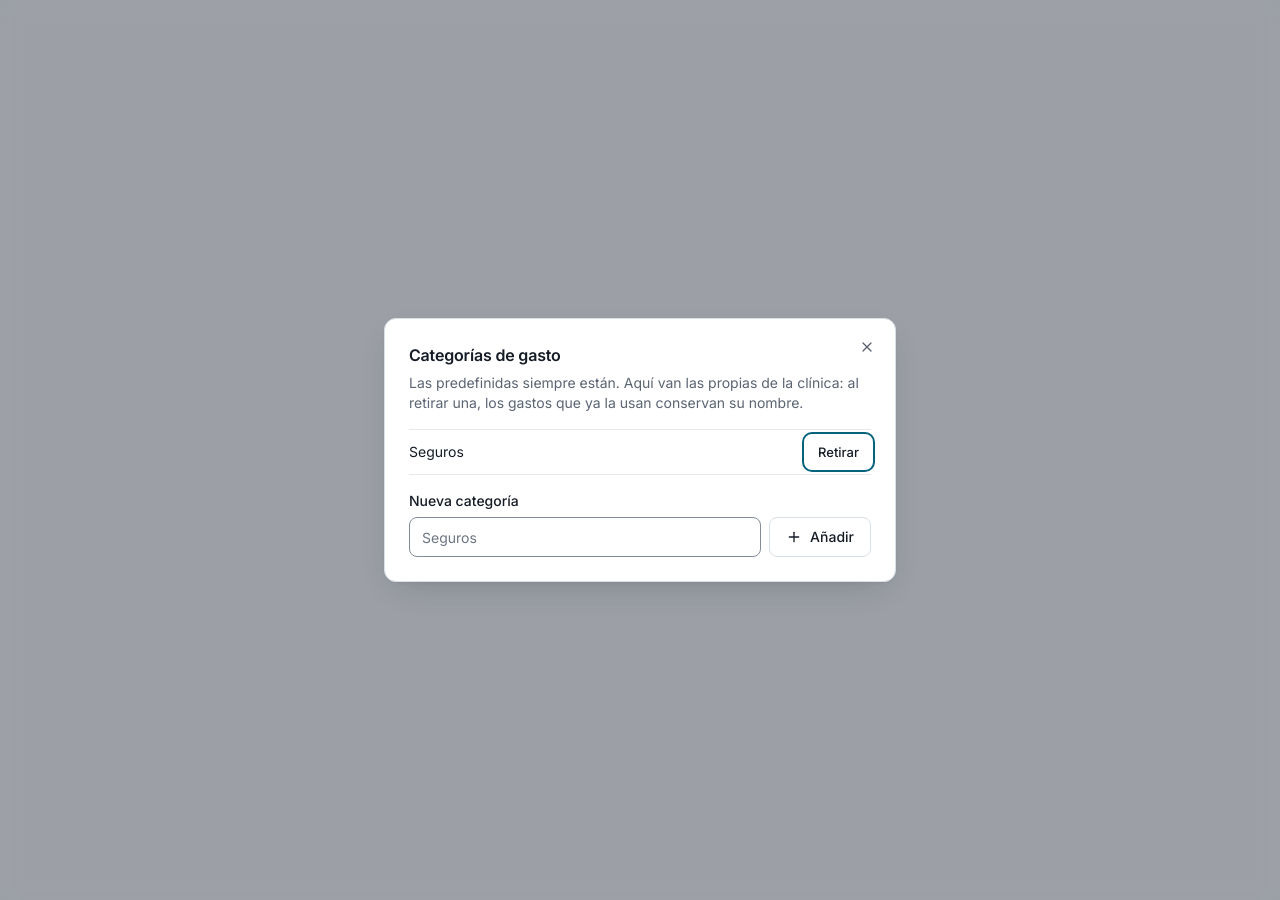
Scenario: ExpenseCategoriesModal (DX-274) › valida la longitud y dice el rechazo de la API dentro del modal
In the field labelled "Nueva categoría": (585, 537) [409,517,761,557], type "x"
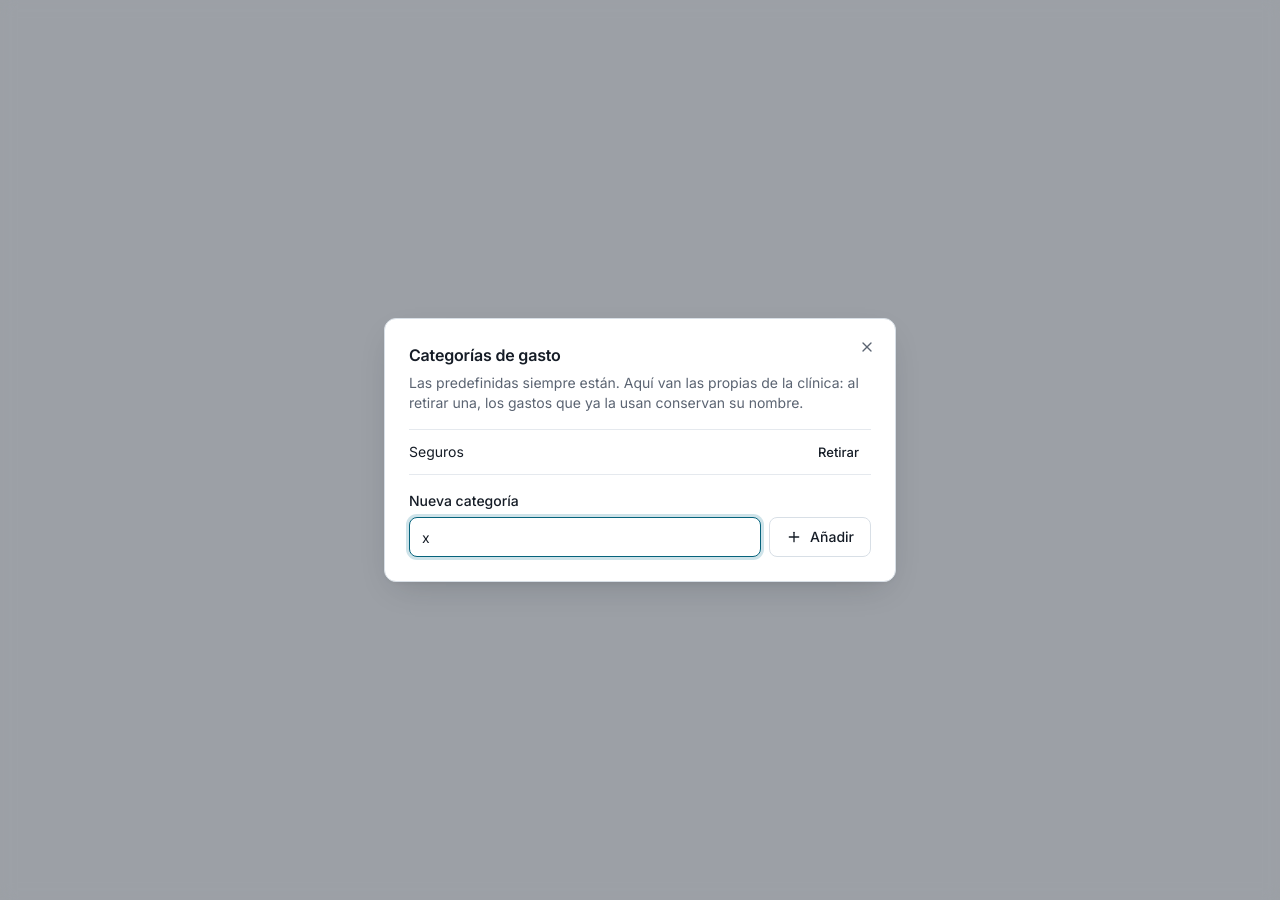
Click the button "Añadir": (820, 537) [769,517,871,557]
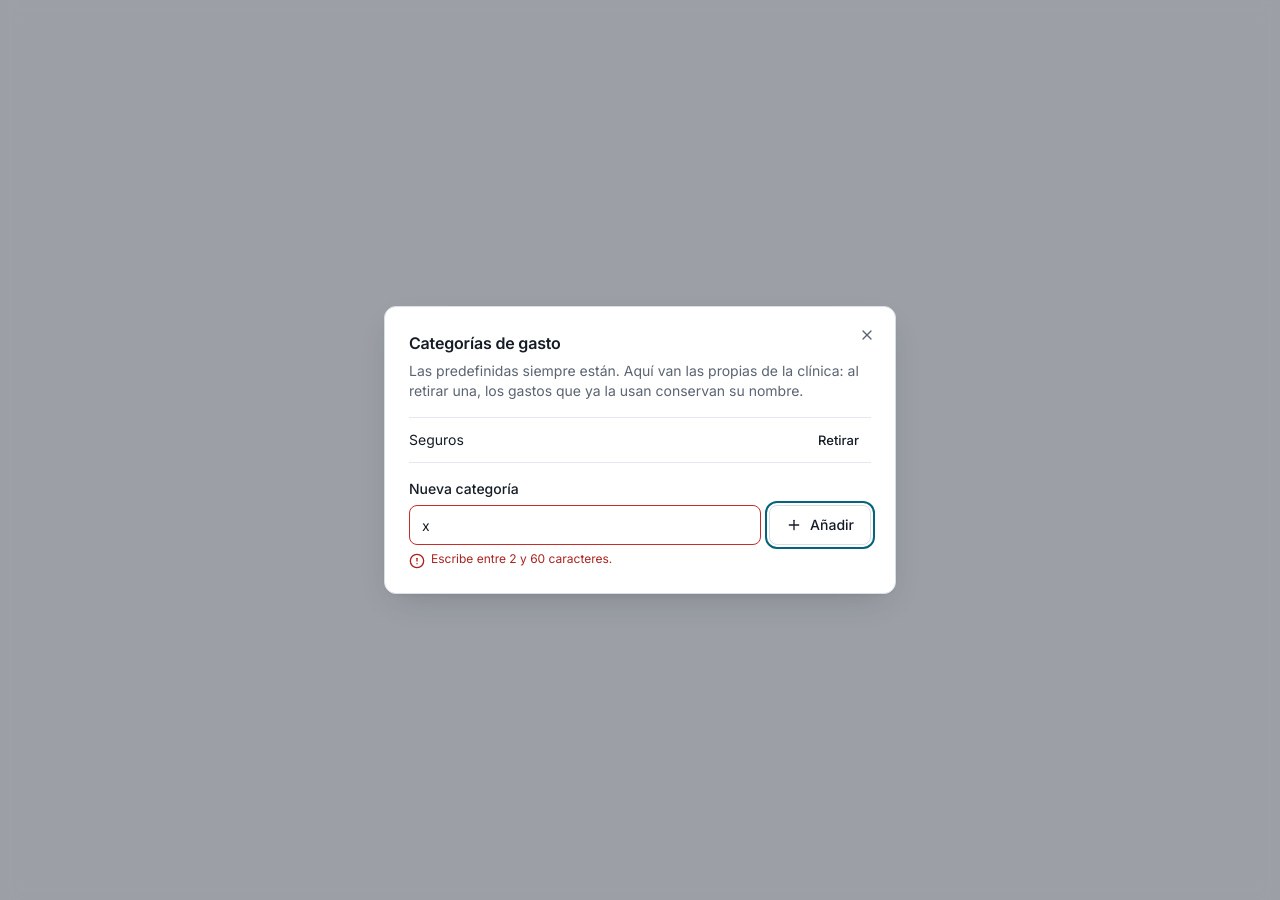
Check: the text "Escribe entre 2 y 60 caracteres." is shown, box [431,551,612,567]
In the field labelled "Nueva categoría": (585, 525) [409,505,761,545], type "Seguros"
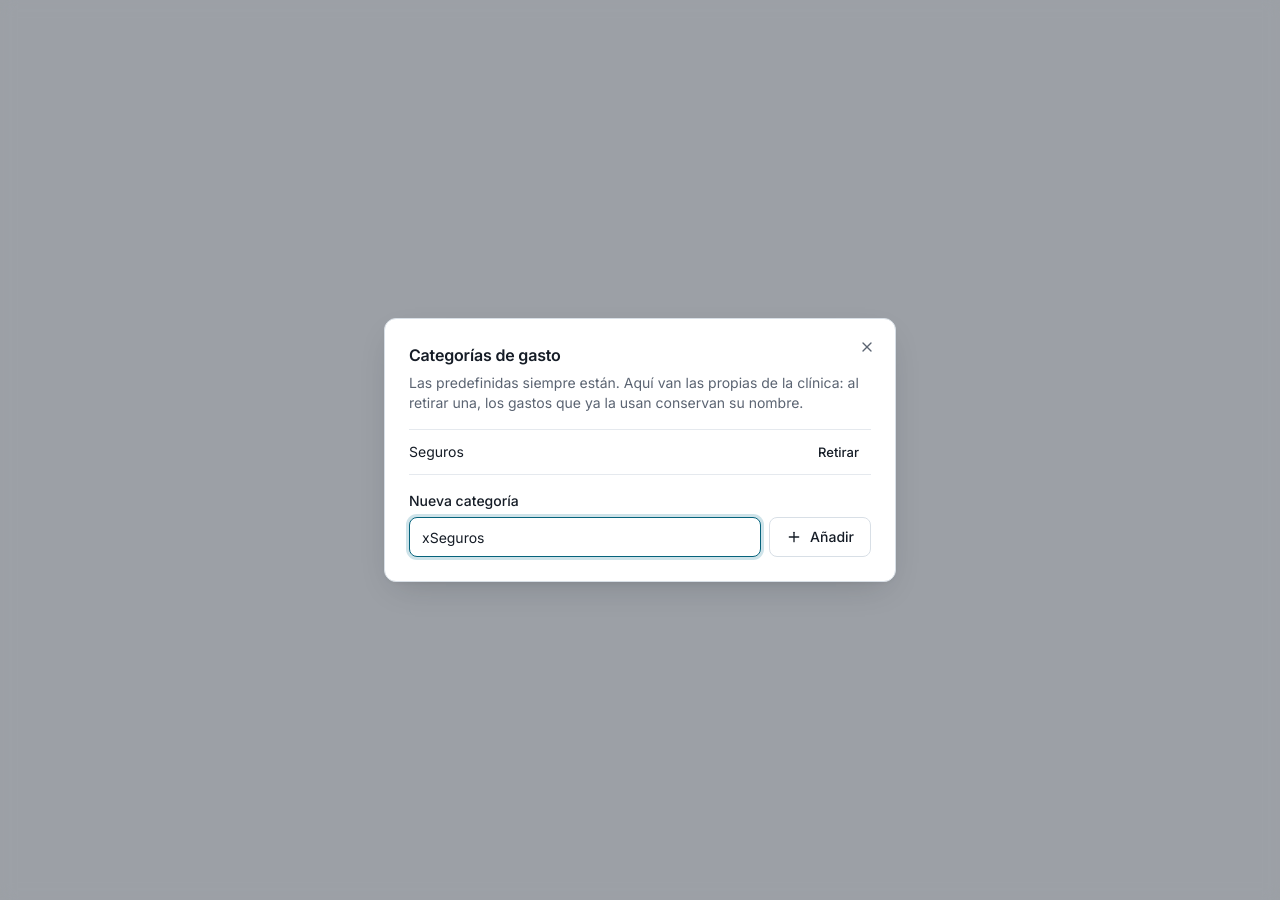
Click the button "Añadir": (820, 537) [769,517,871,557]
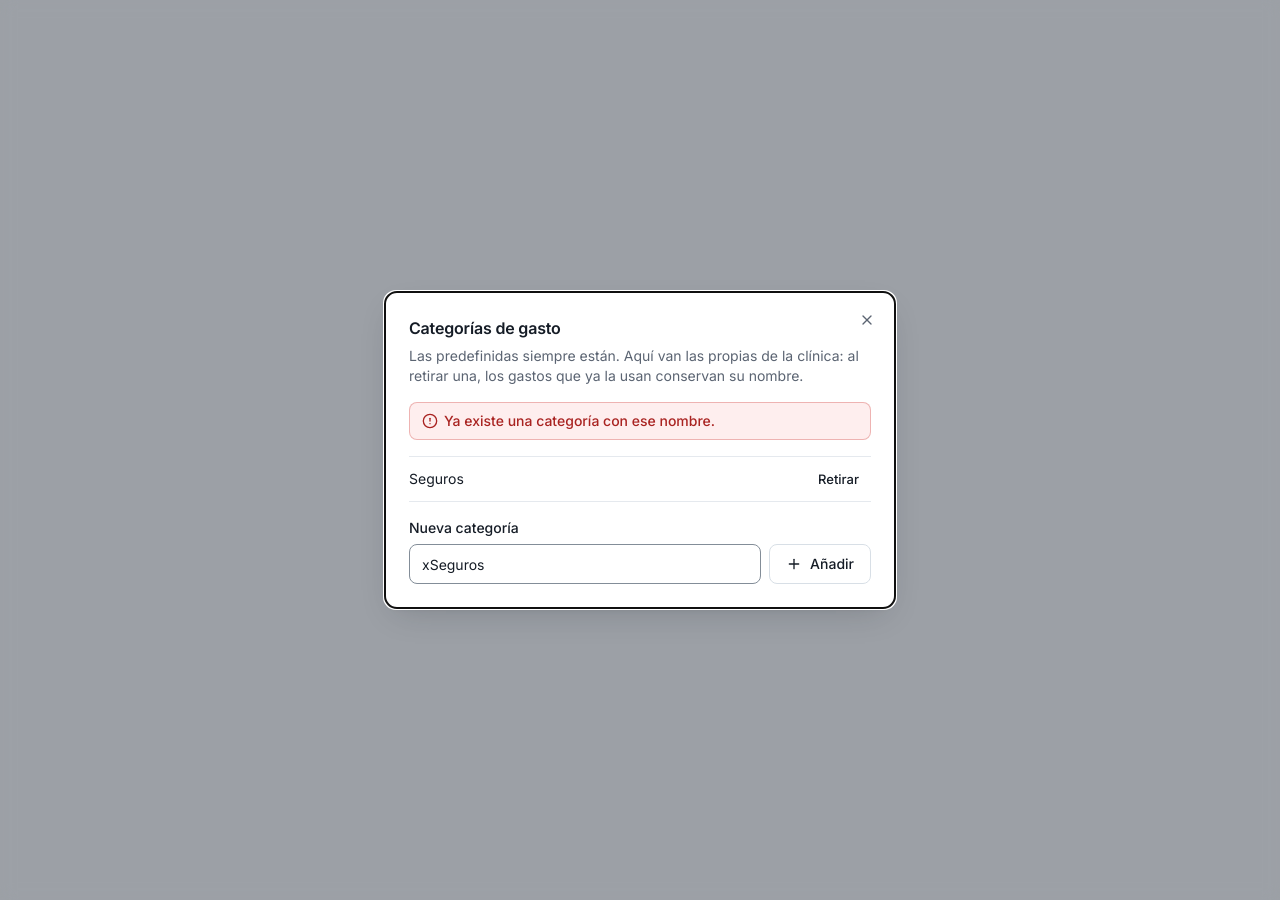
Check: the text "Ya existe una categoría con ese nombre." is shown, box [444,411,715,431]
